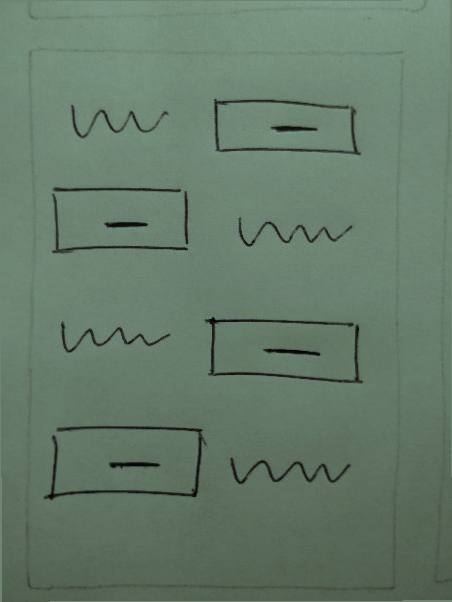button: (40, 415, 213, 504), (202, 310, 364, 387), (44, 183, 207, 256), (205, 93, 369, 165)
text: (222, 441, 353, 493), (232, 201, 357, 251), (55, 304, 173, 355), (59, 95, 171, 146)
